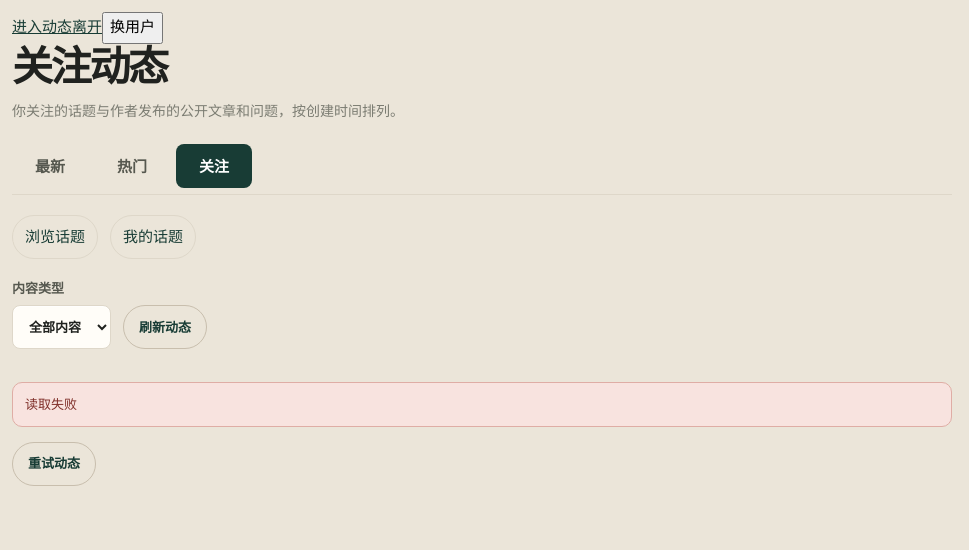
关注动态 › distinguishes first-page failure from empty state
Expected: the text "读取失败" is shown, top-left (12, 382), bottom-right (952, 427)
Expected: the text "暂无关注动态" is not shown
Click the button "重试动态" at (54, 464), box top-left (12, 442), bottom-right (96, 486)
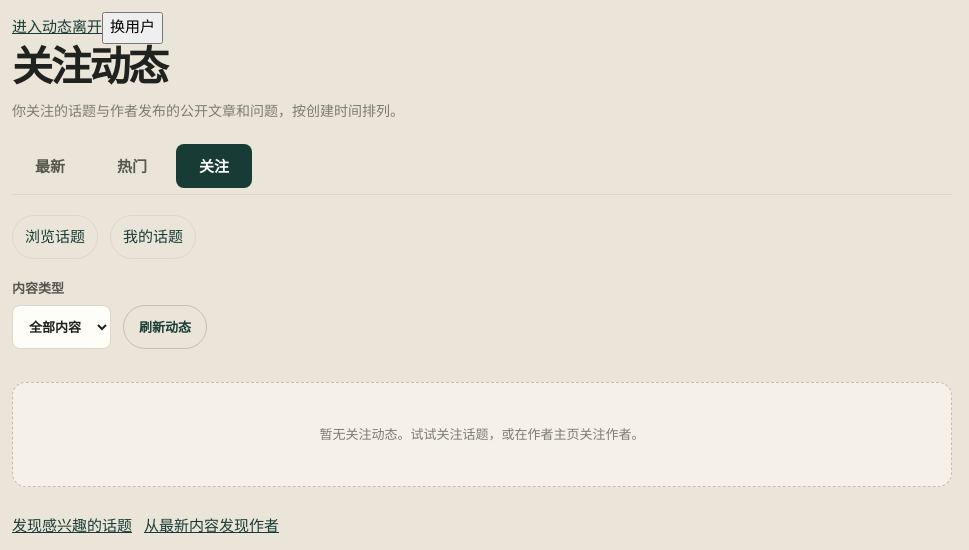
Expected: the text "暂无关注动态。试试关注话题，或在作者主页关注作者。" is shown, top-left (12, 382), bottom-right (952, 487)
